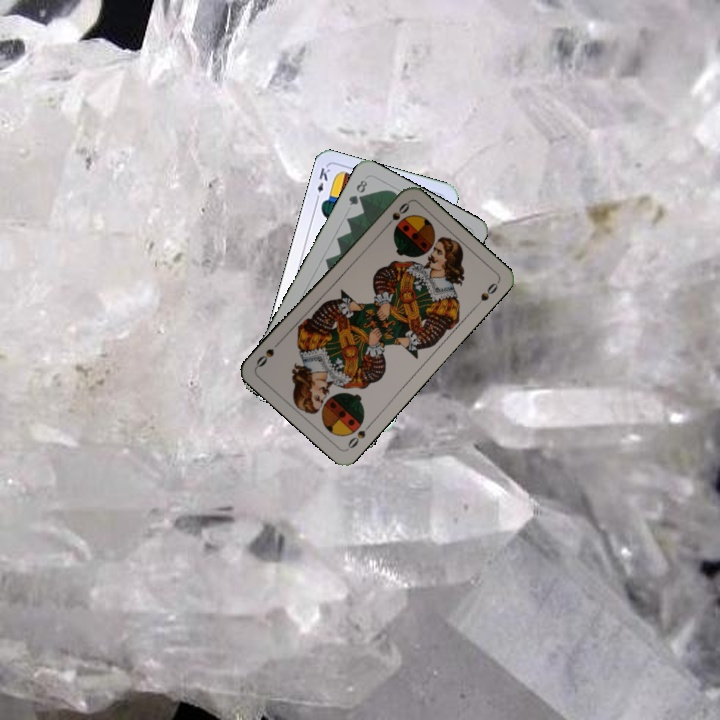EK: (312, 164, 332, 204)
G8: (345, 176, 370, 208)
SO: (380, 198, 412, 232), (343, 419, 375, 451)
